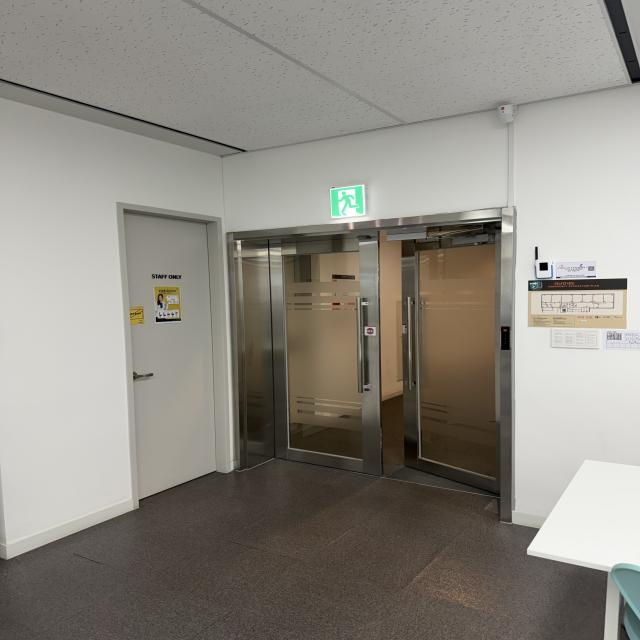rear_door: (269, 221, 502, 498)
